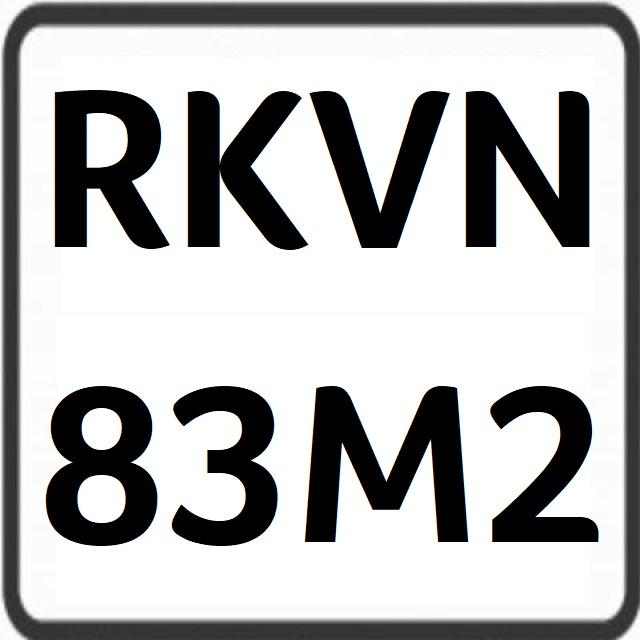2: (486, 359, 612, 566)
3: (166, 362, 286, 554)
8: (41, 363, 164, 558)
K: (185, 56, 315, 257)
M: (303, 362, 478, 555)
N: (453, 65, 596, 270)
R: (38, 78, 168, 264)
V: (314, 57, 454, 268)
